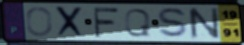F: (91, 6, 121, 38)
N: (186, 7, 222, 41)
O: (25, 6, 55, 38)
Q: (123, 8, 152, 38)
S: (156, 6, 191, 40)
X: (54, 5, 87, 39)
